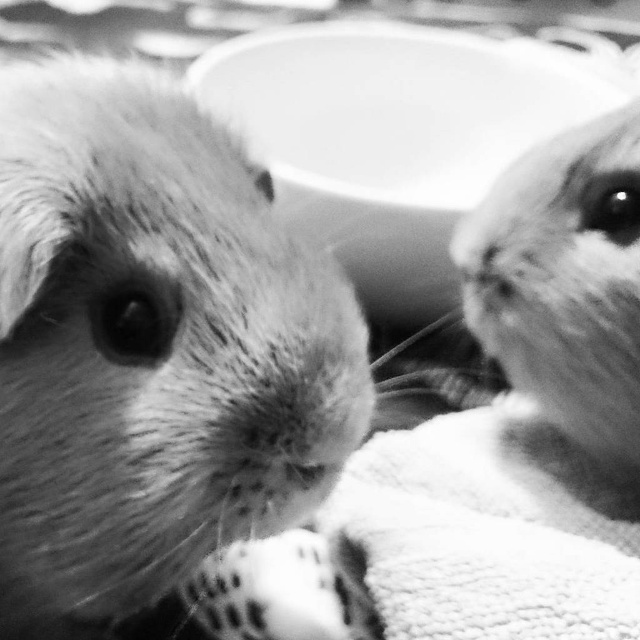Rabbit: (0, 0, 493, 640), (449, 95, 640, 516)
